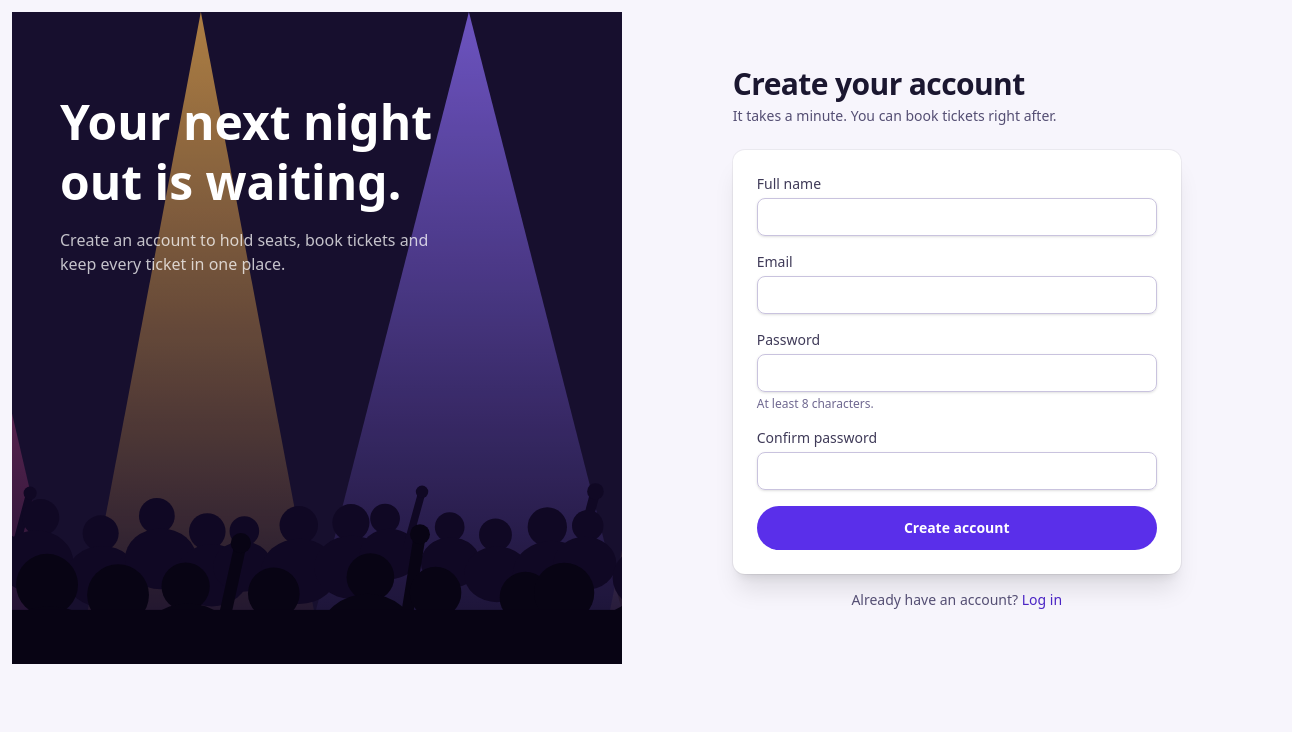
Test: RegisterPage › asks for every field without calling the server
Click the button "Create account" at (957, 528), box [757, 506, 1157, 550]
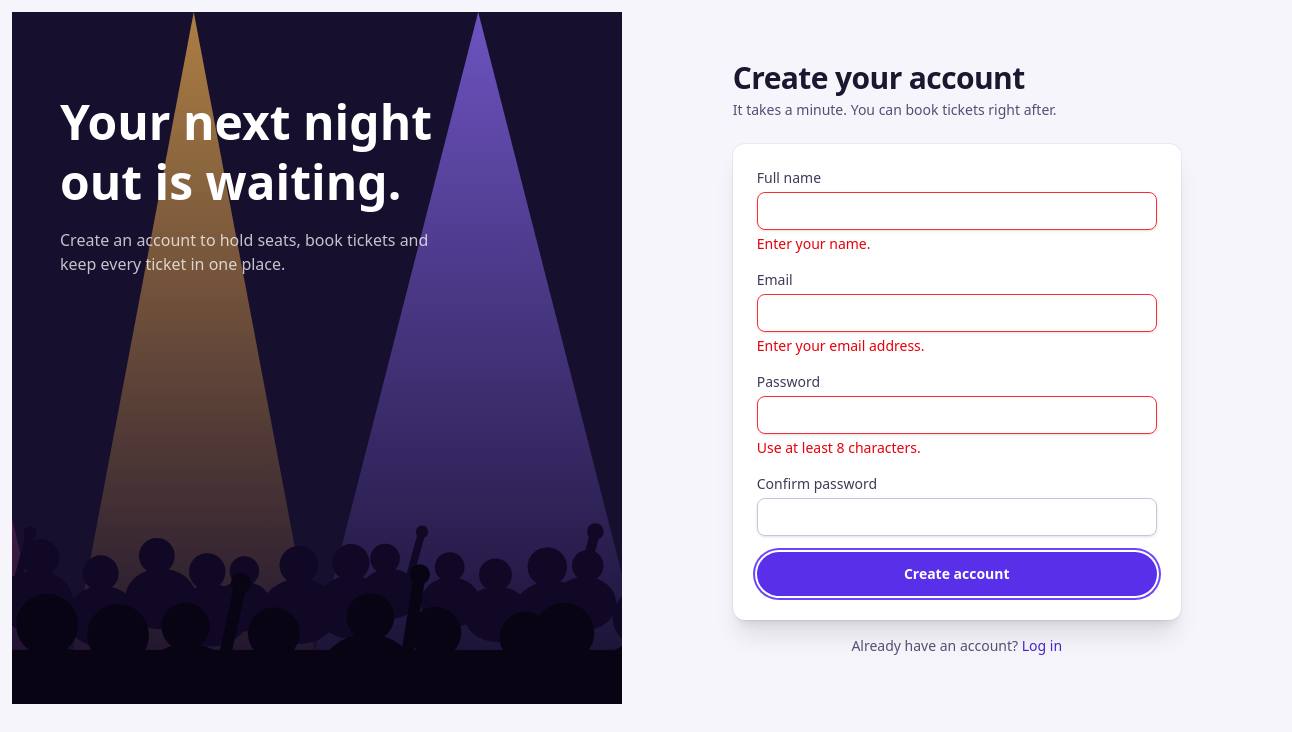
Check: the text "Enter your name." is shown, box [757, 234, 871, 253]
Check: the text "Enter your email address." is shown, box [757, 336, 925, 355]
Check: the text "Use at least 8 characters." is shown, box [757, 438, 921, 457]
